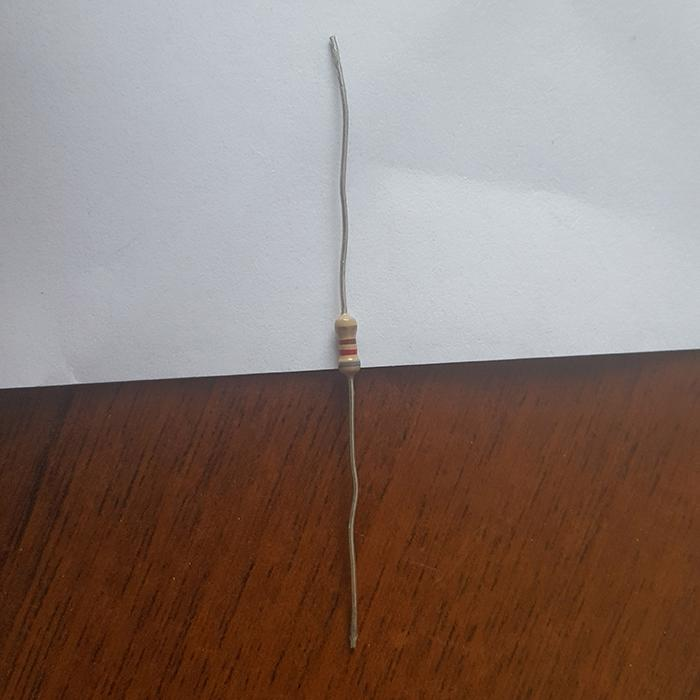resistor: (333, 312, 360, 373)
